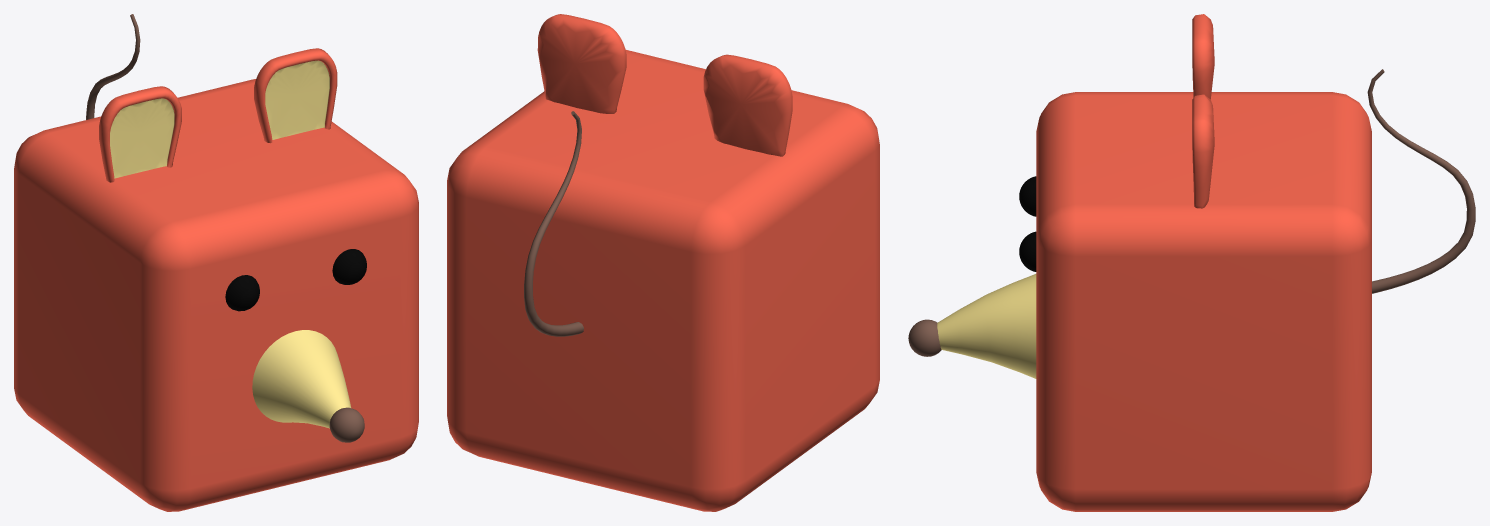
Rendered from Rat.fbx.
3 views of the same model, side by side, from view 1: azimuth 30°, elevation 25°; view 2: azimuth 150°, elevation 25°; view 3: azimuth 270°, elevation 25° (orthographic). The views are drawn at different scales.
Parts seen in each view (by area): view 1: Rat; view 2: Rat; view 3: Rat.
Part boxes in pixels (left/top/right/bottom): Rat: left=14, top=14, right=418, bottom=511; Rat: left=447, top=14, right=879, bottom=511; Rat: left=908, top=14, right=1475, bottom=511.
Bounding box in the file's own units: 1 × 1.28 × 1.69.
